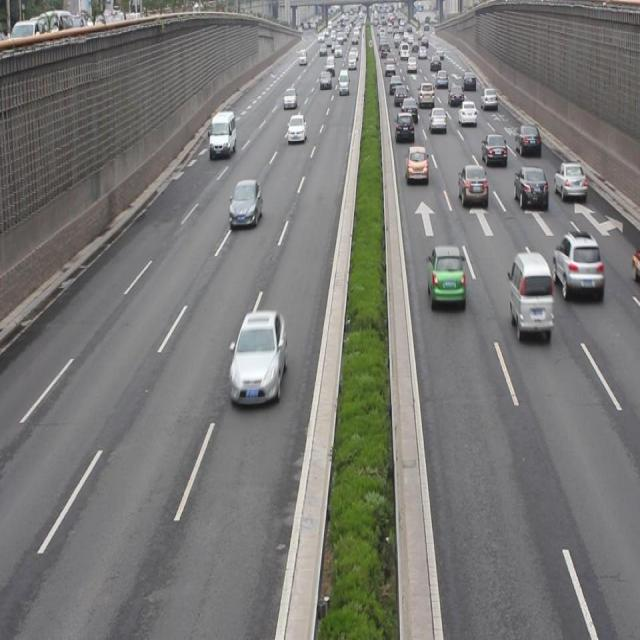car: (229, 312, 286, 410), (552, 230, 601, 303), (426, 245, 464, 306), (511, 167, 548, 210), (228, 180, 261, 228), (457, 162, 487, 208), (553, 162, 586, 202), (403, 146, 428, 186), (514, 123, 540, 159), (480, 132, 505, 164), (394, 113, 413, 142), (287, 115, 305, 142), (429, 109, 446, 132)
truck: (507, 252, 551, 342), (210, 111, 236, 160)
